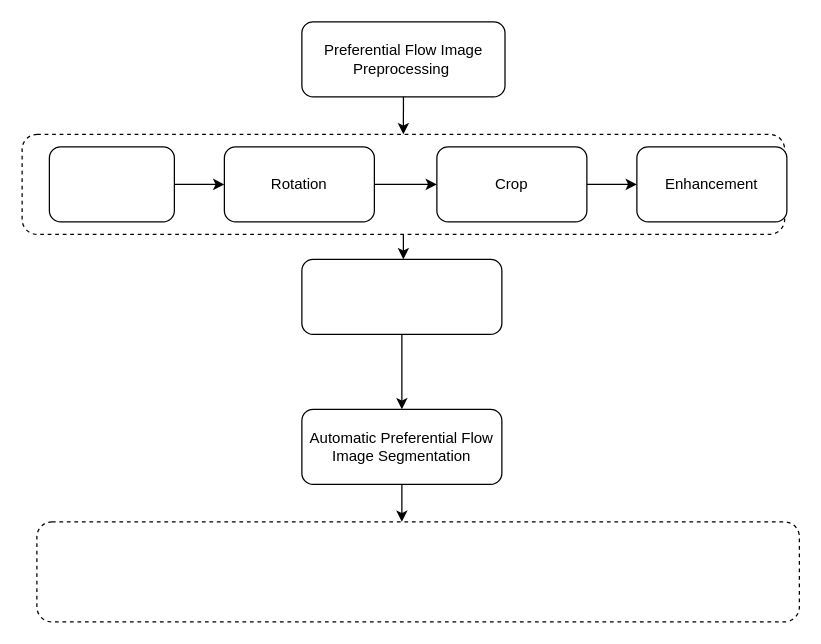
The diagram is 821 pixels wide and 644 high, and some of its shapes have lost their labels. Each missing label, with the centre of its shape:
"Preferential Flow Image Database" belongs at point (401, 296).
"RGB" belongs at point (111, 184).
